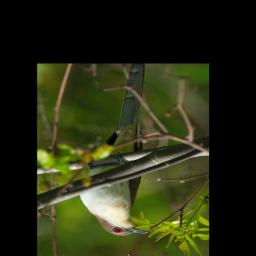Cuckoo: (76, 64, 150, 237)
